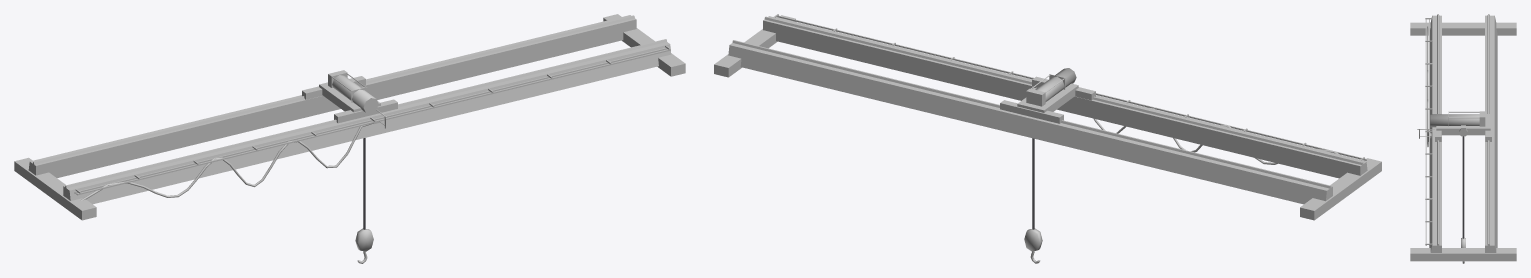
Rendered from BridgeCrane.fbx.
3 views of the same model, side by side, from view 1: azimuth 30°, elevation 25°; view 2: azimuth 150°, elevation 25°; view 3: azimuth 270°, elevation 25° (orthographic). The views are drawn at different scales.
Visible parts, largest first — view 1: CraneGirder, CraneTrolley, CraneTrolleyFestoon, CraneHookBlock; view 2: CraneGirder, CraneTrolley, CraneHookBlock; view 3: CraneGirder, CraneTrolley, CraneWireRope, CraneTrolleyFestoon.
Boxes of the visible parts, x1,y1,x2,y2 form: CraneGirder: (14, 14, 685, 220); CraneTrolley: (302, 70, 397, 128); CraneTrolleyFestoon: (80, 123, 372, 200); CraneHookBlock: (355, 228, 373, 263); CraneGirder: (714, 14, 1381, 220); CraneTrolley: (1000, 68, 1095, 123); CraneHookBlock: (1024, 228, 1042, 263); CraneGirder: (1410, 14, 1516, 261); CraneTrolley: (1417, 111, 1491, 141); CraneWireRope: (1462, 136, 1464, 238); CraneTrolleyFestoon: (1427, 26, 1430, 147).
Bounding box in the file's own units: 28.7 × 8.39 × 5.59.
